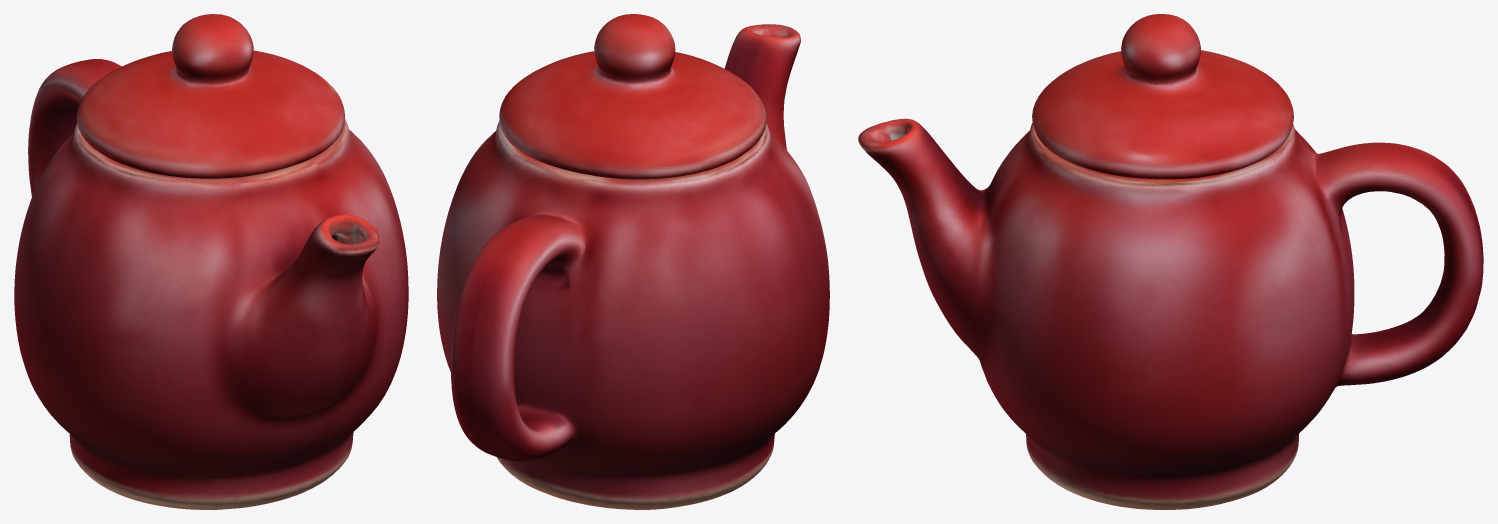
File: special_UtahTeapotRed.glb
3 views of the same model, side by side, from view 1: azimuth 30°, elevation 25°; view 2: azimuth 150°, elevation 25°; view 3: azimuth 270°, elevation 25° (orthographic).
Visible parts, largest first — view 1: world; view 2: world; view 3: world.
Part boxes in pixels (bbox=[...]): world: bbox=[14, 14, 408, 509]; world: bbox=[437, 14, 829, 509]; world: bbox=[858, 14, 1483, 509].
Size of the model in its own units: 0.6339 by 0.7786 by 1.
Materials: 1 (1 with a texture image).
